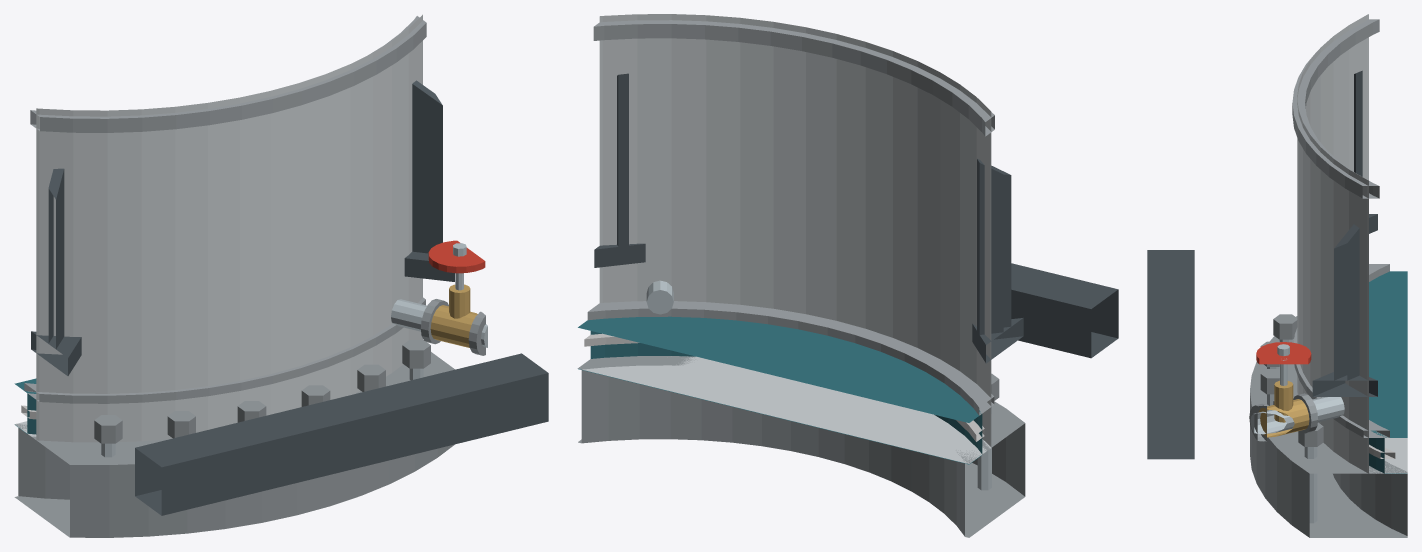
Rendered from cell_25.obj.
3 renders of one model, left to right at view 1: azimuth 30°, elevation 25°; view 2: azimuth 150°, elevation 25°; view 3: azimuth 270°, elevation 25°, orthographic. The views are drawn at different scales.
Bounding box in the file's own units: 1 × 1 × 0.66.
